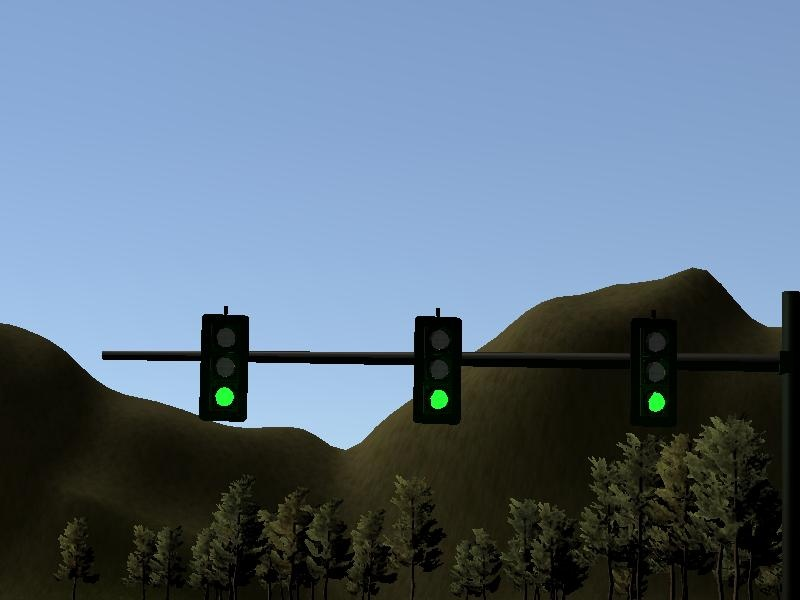green: (406, 298, 474, 429), (195, 302, 247, 424), (630, 314, 672, 428)
